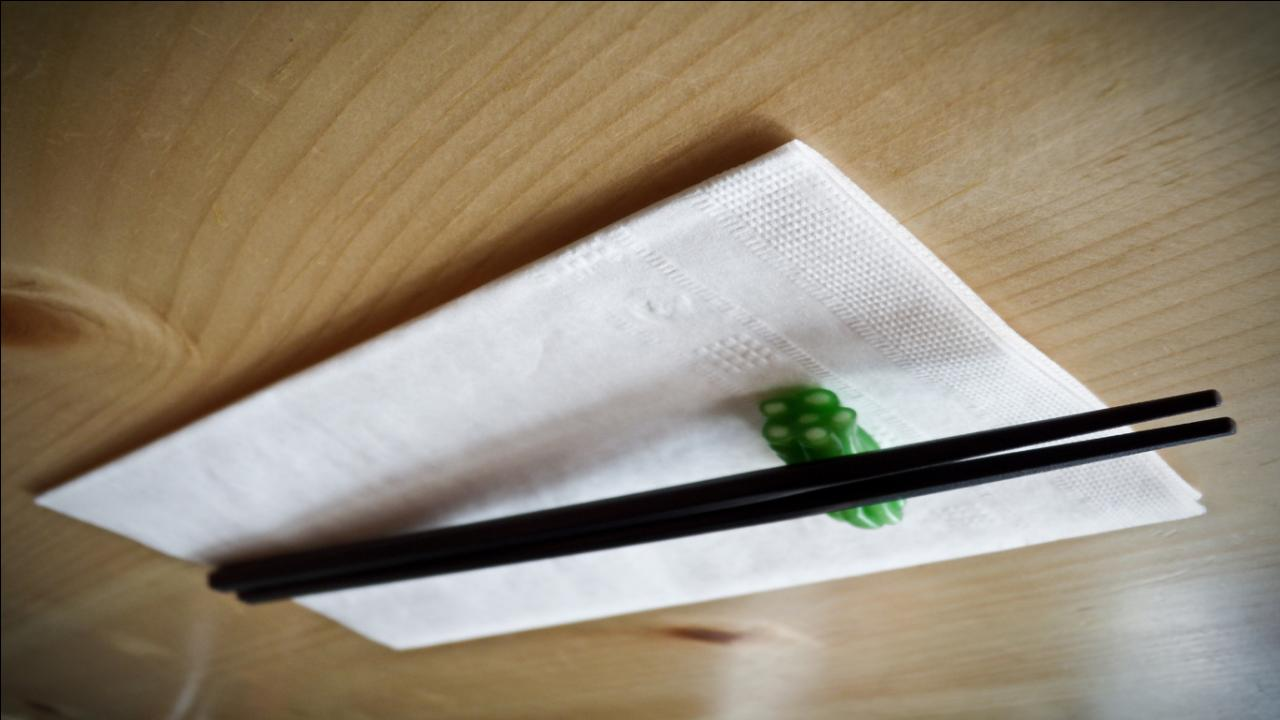chopstick: (208, 390, 1236, 606)
